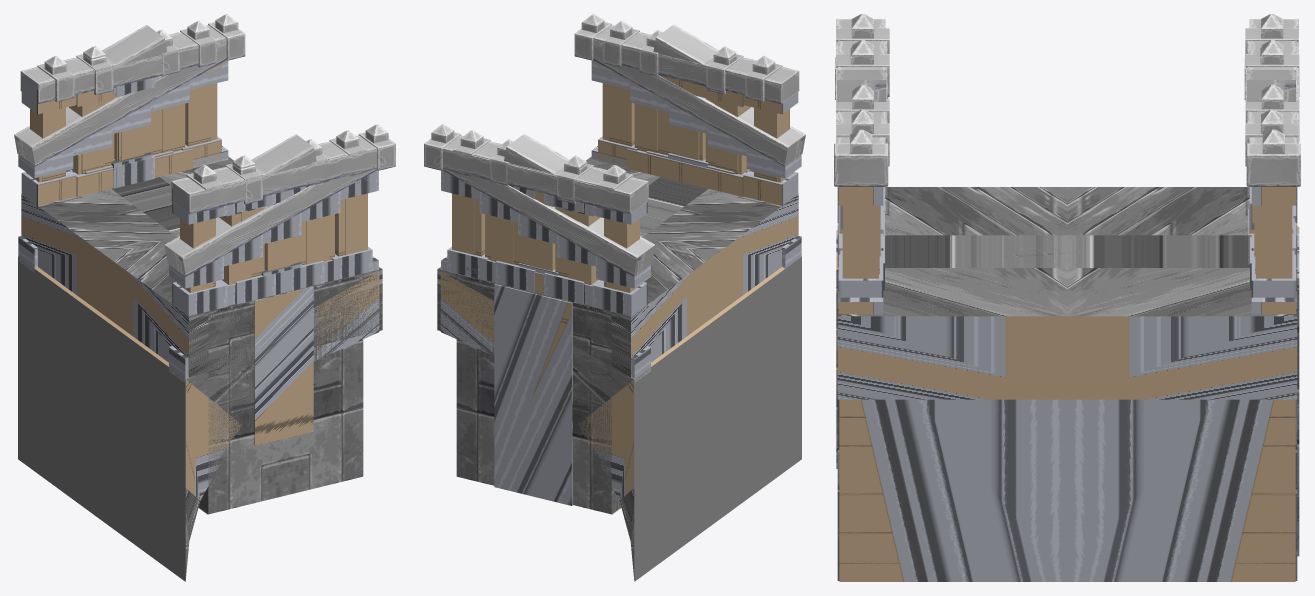
The model's file is Puente_Balostres_Colliders.fbx.
3 renders of one model, left to right at view 1: azimuth 30°, elevation 25°; view 2: azimuth 150°, elevation 25°; view 3: azimuth 270°, elevation 25°, orthographic. The views are drawn at different scales.
Visible parts, largest first — view 1: Collider_Puente_Balostres_arco, Collider_Puente_Balostres_paso, Collider_Puente_Balostres_base_B, Collider_Puente_Balostres_step, Collider_Puente_Balostres_Union, Collider_Puente_Balostres_paso_A, Collider_Puente_Balostres_base; view 2: Collider_Puente_Balostres_arco, Collider_Puente_Balostres_paso, Collider_Puente_Balostres_base, Collider_Puente_Balostres_base_B, Collider_Puente_Balostres_Union, Collider_Puente_Balostres_step, Collider_Puente_Balostres_paso_A; view 3: Collider_Puente_Balostres_Union, Collider_Puente_Balostres_paso, Collider_Puente_Balostres_arco, Collider_Puente_Balostres_paso_A, Collider_Puente_Balostres_base, Collider_Puente_Balostres_step, Collider_Puente_Balostres_base_B.
Part boxes in pixels (x1,y1,x2,y2): Collider_Puente_Balostres_arco: (14, 14, 395, 581); Collider_Puente_Balostres_paso: (20, 25, 382, 377); Collider_Puente_Balostres_base_B: (199, 274, 363, 514); Collider_Puente_Balostres_step: (83, 25, 316, 445); Collider_Puente_Balostres_Union: (37, 21, 366, 514); Collider_Puente_Balostres_paso_A: (111, 55, 309, 298); Collider_Puente_Balostres_base: (76, 30, 329, 206); Collider_Puente_Balostres_arco: (424, 14, 805, 581); Collider_Puente_Balostres_paso: (437, 25, 799, 376); Collider_Puente_Balostres_base: (490, 30, 743, 505); Collider_Puente_Balostres_base_B: (456, 275, 620, 514); Collider_Puente_Balostres_Union: (453, 21, 782, 514); Collider_Puente_Balostres_step: (504, 24, 737, 275); Collider_Puente_Balostres_paso_A: (510, 155, 708, 299); Collider_Puente_Balostres_Union: (836, 14, 1298, 581); Collider_Puente_Balostres_paso: (836, 19, 1298, 399); Collider_Puente_Balostres_arco: (834, 129, 1300, 314); Collider_Puente_Balostres_paso_A: (836, 68, 1297, 267); Collider_Puente_Balostres_base: (836, 40, 1299, 556); Collider_Puente_Balostres_step: (835, 47, 1295, 468); Collider_Puente_Balostres_base_B: (837, 399, 1297, 580).
Size of the model in its own units: 220 by 398 by 304.
